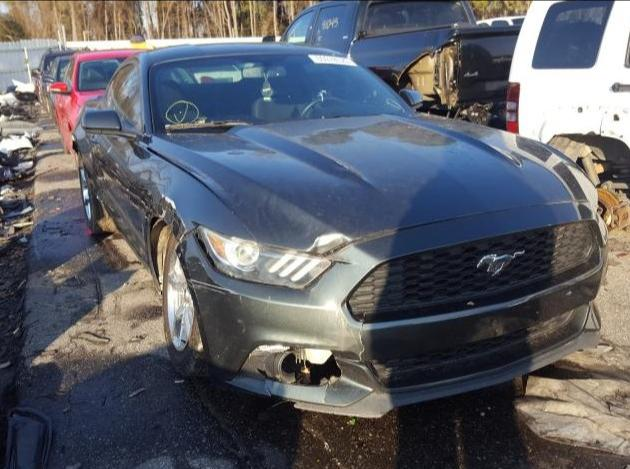Broken part: (173, 198, 607, 418), (147, 214, 167, 291)
Dent: (149, 192, 187, 240), (304, 229, 353, 256)
Missing part: (238, 344, 341, 386)
Scratch: (190, 278, 236, 297), (513, 286, 548, 306)
